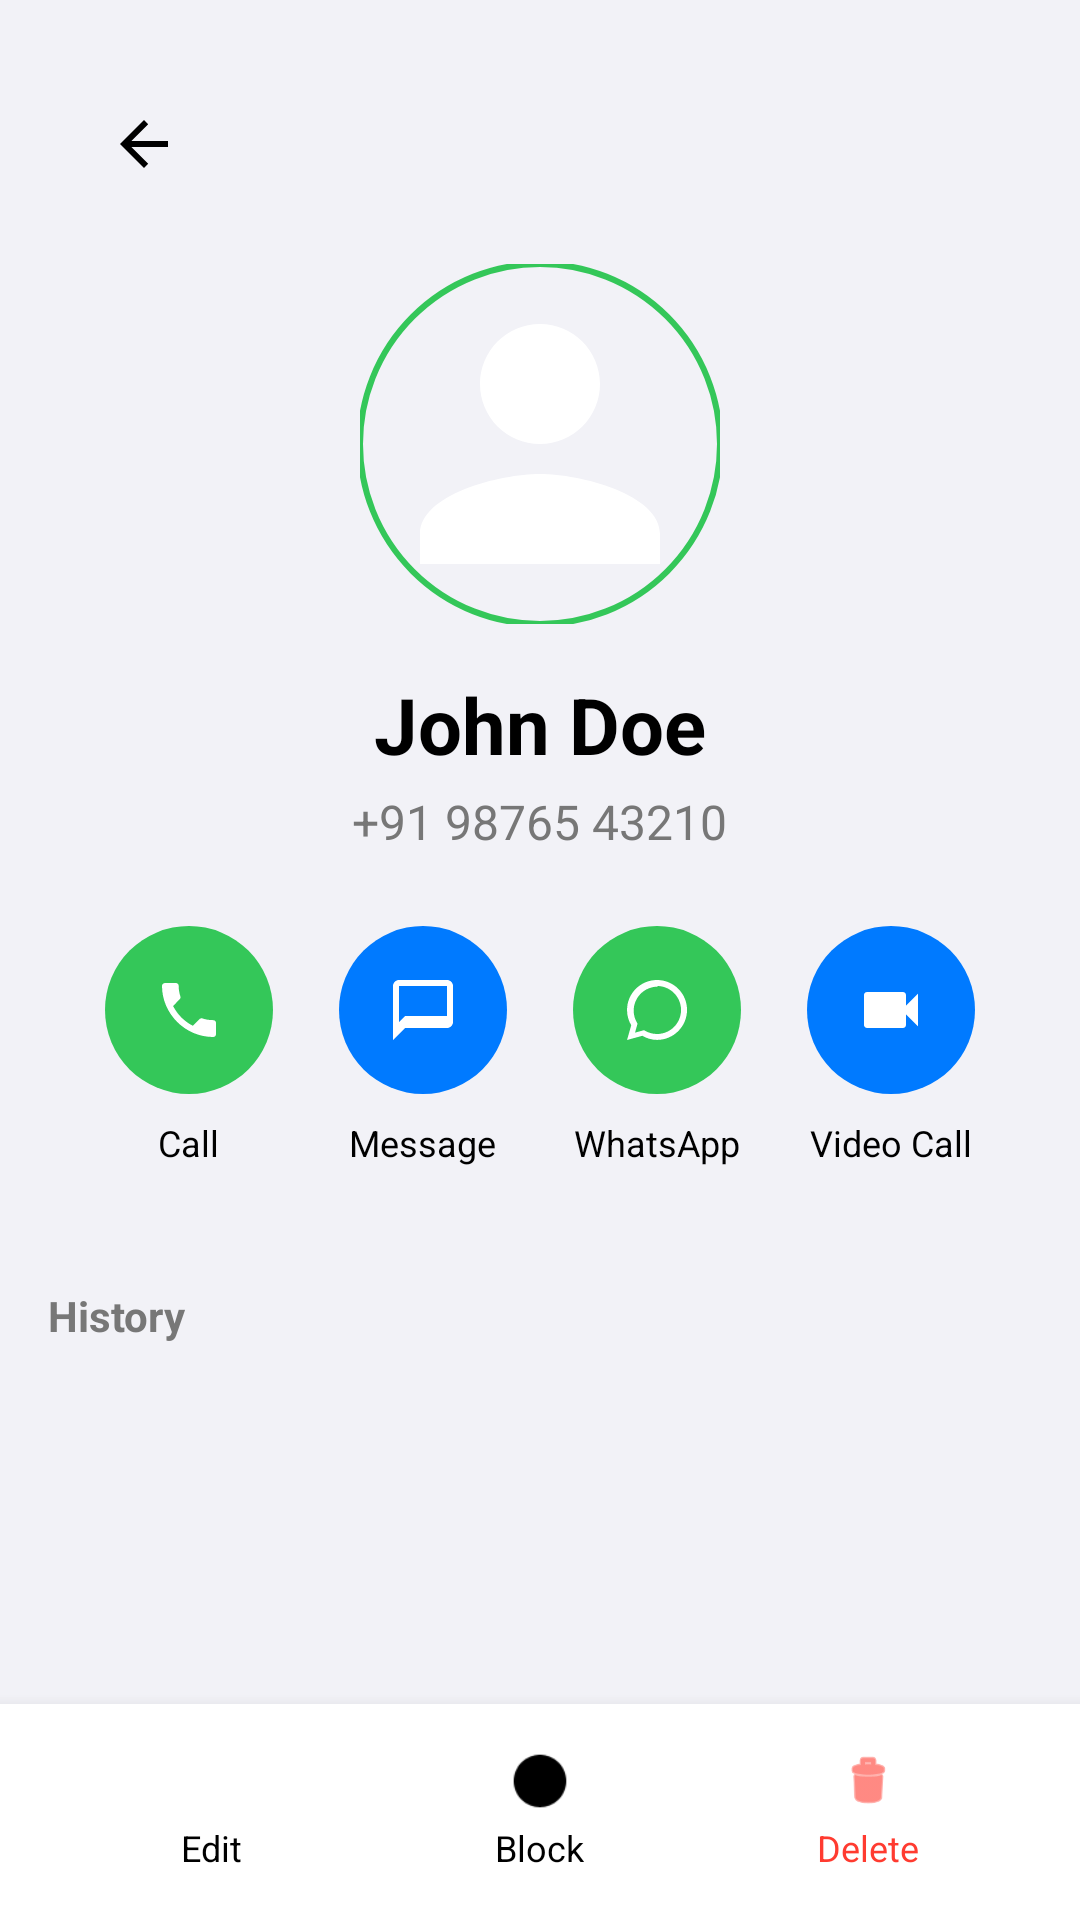

Named icons in this screenshot (1080px x 1920px) and their bounding boxes, (left=x1, top=y1, right=x2, bottom=y2):
contacts: (left=360, top=264, right=720, bottom=624)
phone: (left=162, top=983, right=216, bottom=1037)
